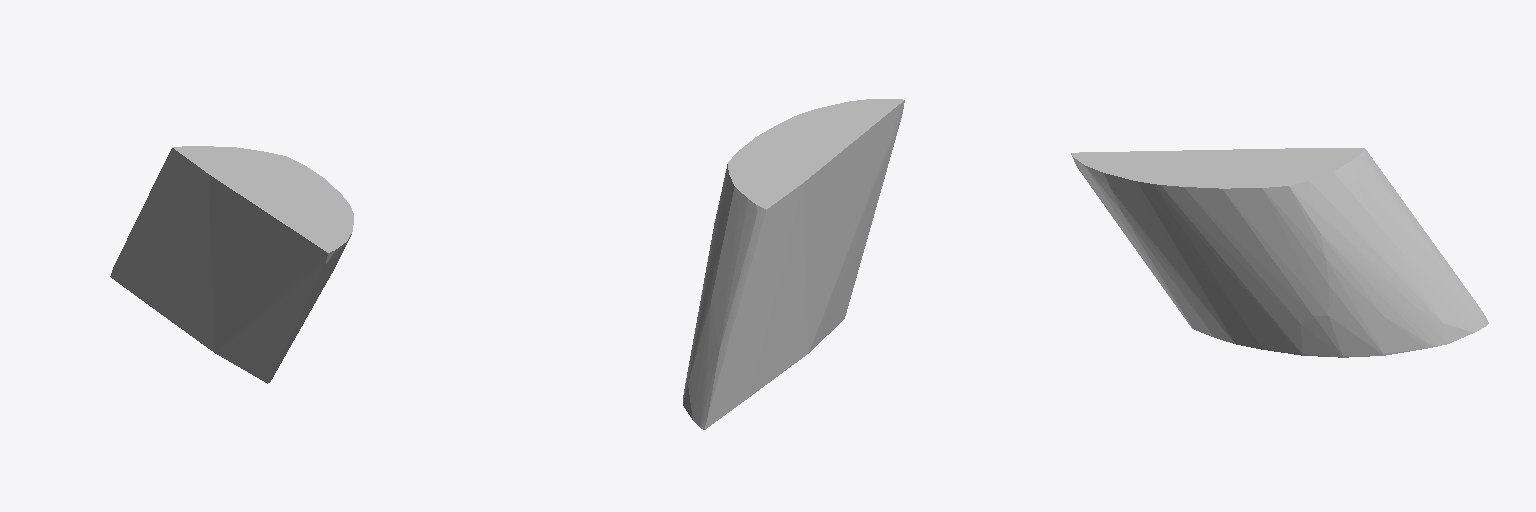
The model's file is phantom-elastrat_collision_132.obj.
3 renders of one model, left to right at view 1: azimuth 30°, elevation 25°; view 2: azimuth 150°, elevation 25°; view 3: azimuth 270°, elevation 25°, orthographic.
Size of the model in its own units: 0.0027 by 0.0055 by 0.012.